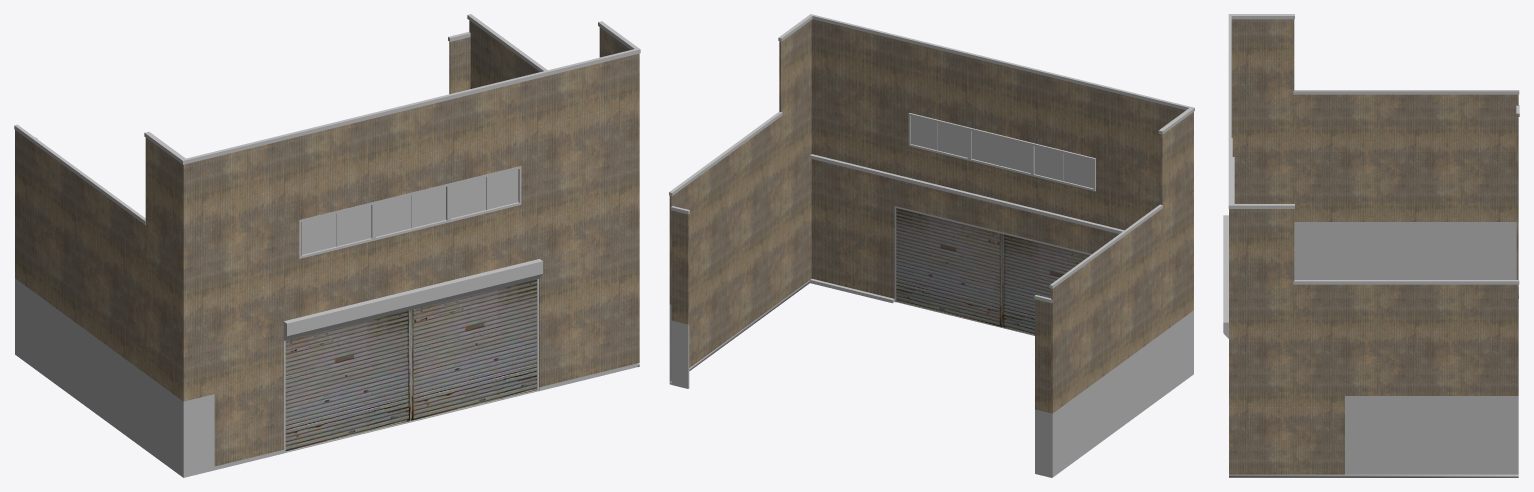
The model's file is Factory_Small_01a.fbx.
3 renders of one model, left to right at view 1: azimuth 30°, elevation 25°; view 2: azimuth 150°, elevation 25°; view 3: azimuth 270°, elevation 25°, orthographic. The views are drawn at different scales.
Visible parts, largest first — view 1: Factory_Small_01a; view 2: Factory_Small_01a; view 3: Factory_Small_01a.
Part boxes in pixels (x1,y1,x2,y2): Factory_Small_01a: [14, 14, 640, 477]; Factory_Small_01a: [669, 14, 1194, 477]; Factory_Small_01a: [1223, 14, 1519, 477].
Size of the model in its own units: 12.54 by 8.33 by 8.18.
